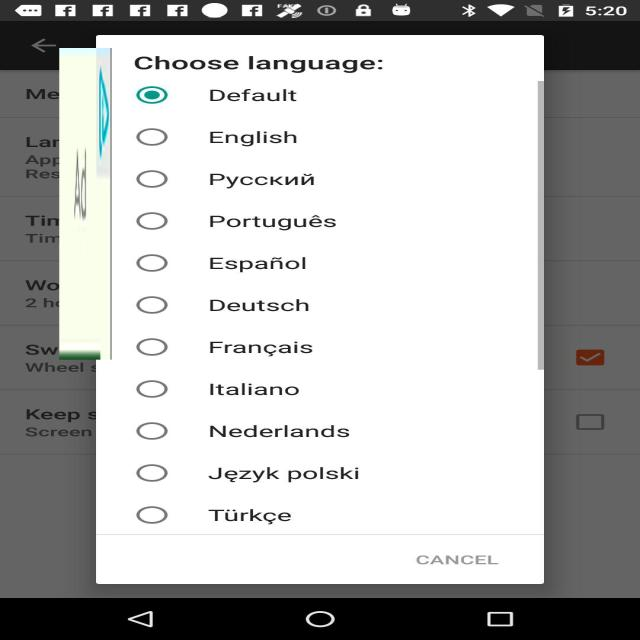sneaking: (60, 48, 112, 360)
